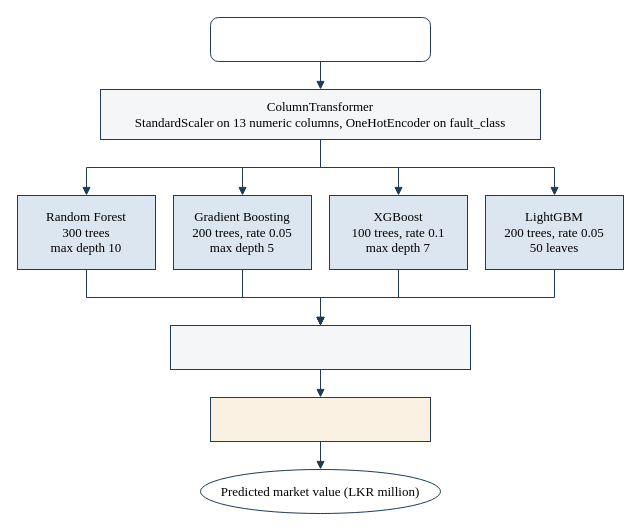
This 641x531 diagram has some shape labels left out. The centre of each missing label's shape, as x and y in pixels:
"Input row: 14 features (8 vehicle, 3 condition, 3 derived)" belongs at (320,39).
"Out-of-fold predictions of the four learners (5-fold, training rows only)" belongs at (320,347).
"Ridge regression meta-learner (alpha = 1.0)" belongs at (320,419).
